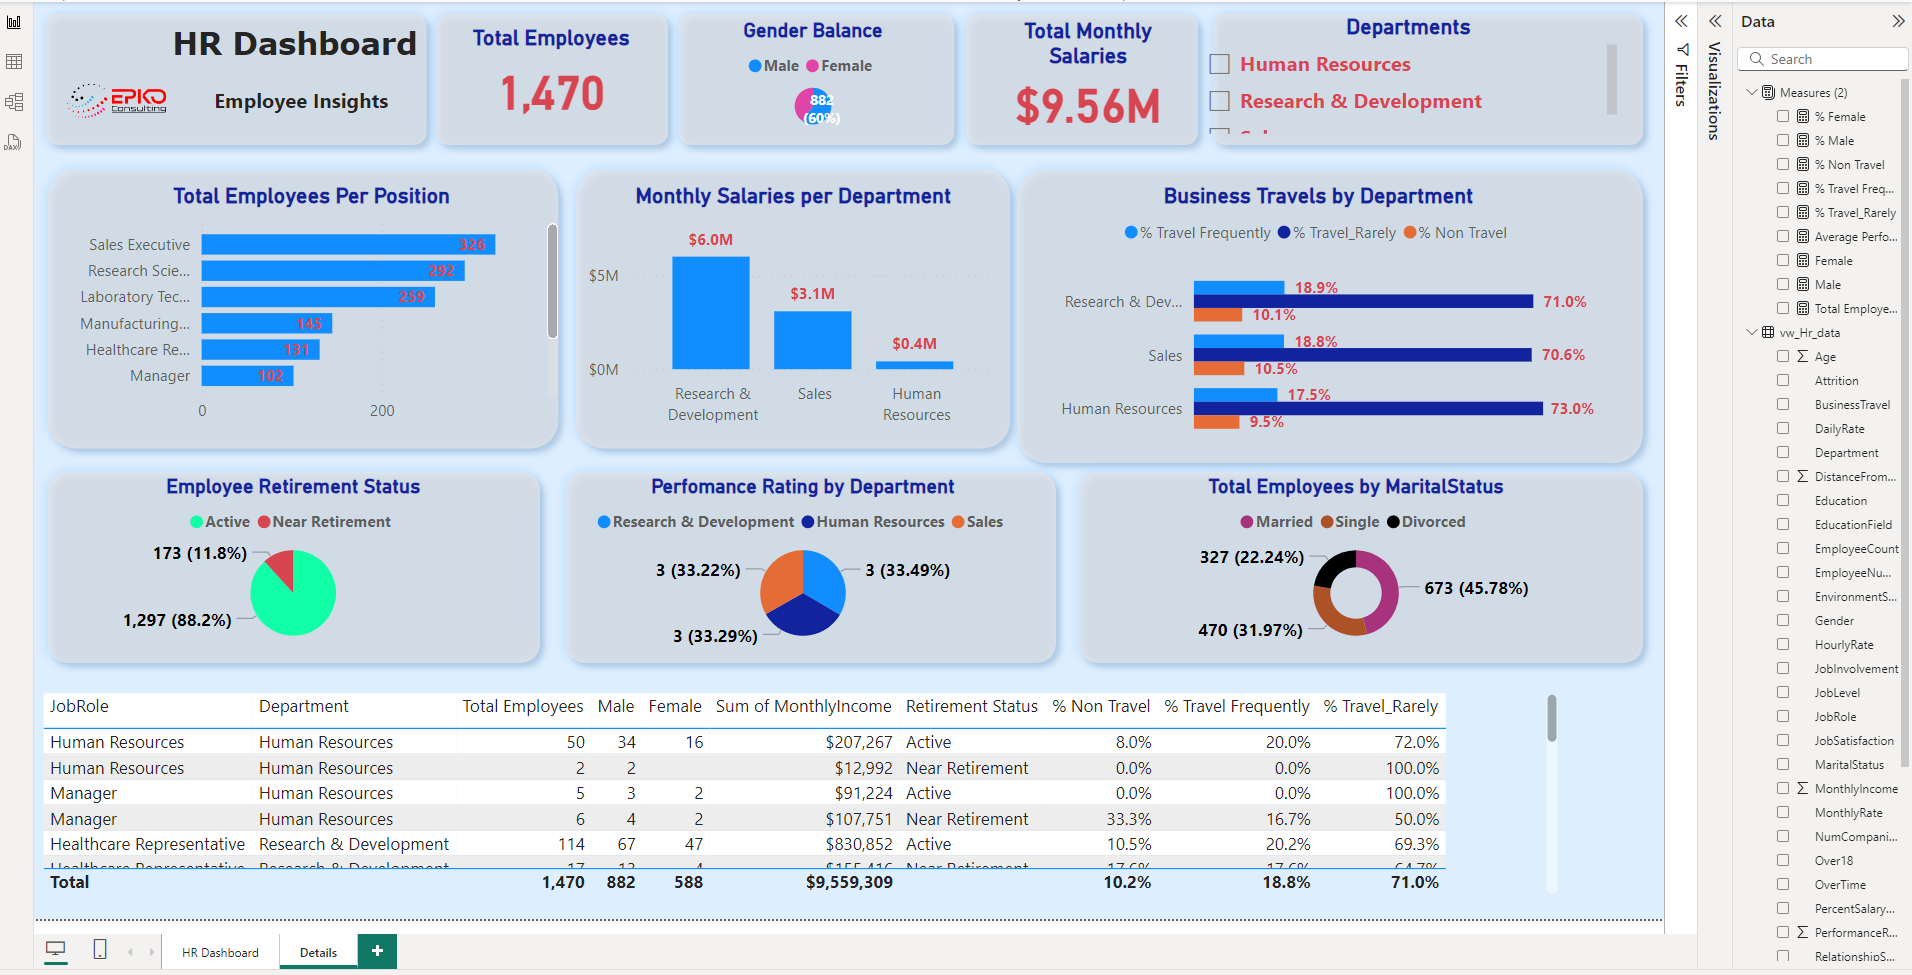

What the dashboard file says about the page in this screenshot:
{"tool":"powerbi","page":{"name":"HR Dashboard","canvas":[1280,720],"ordinal":0},"visuals":[{"type":"shape","box":[51.8,0,366.1,182.6],"z":0},{"type":"shape","box":[410.6,0,201.7,182.6],"z":1000},{"type":"shape","box":[600.5,0,235.3,182.6],"z":2000},{"type":"shape","box":[1023.8,0,256.2,182.6],"z":3000},{"type":"shape","box":[44.5,182.6,418.8,304.3],"z":4000},{"type":"shape","box":[463.3,182.6,358.8,304.3],"z":5000},{"type":"shape","box":[822.1,182.6,451.5,316.1],"z":6000},{"type":"shape","box":[58.1,496.9,405.2,221.7],"z":7000},{"type":"shape","box":[468.8,496.9,353.4,221.7],"z":8000},{"type":"shape","box":[835.8,498.7,437.9,221.7],"z":9000},{"type":"shape","box":[0,0,55.4,720.4],"z":10000},{"type":"textbox","box":[198,22.7,212.6,53.6],"z":11000},{"type":"textbox","box":[210.8,122.6,169.9,43.6],"z":12000},{"type":"image","box":[58.1,16.4,139.9,149.9],"z":13000},{"type":"card","title":"Total Employees","fields":{"Values":["Measures (2).Total Employees"]},"box":[417.9,22.7,165.3,119.9],"z":14000},{"type":"slicer","title":"Departments","fields":{"Values":["vw_Hr_data.Department"]},"box":[1032,22.7,248,136.3],"z":15000},{"type":"columnChart","title":"Monthly  Salaries per Department","fields":{"Y":["Sum(vw_Hr_data.MonthlyIncome)"],"Category":["vw_Hr_data.Department"]},"box":[481.5,194.4,330.7,273.4],"z":16000},{"type":"clusteredBarChart","title":"Total Employees Per Position","fields":{"Category":["vw_Hr_data.JobRole"],"Y":["Measures (2).Total Employees"]},"box":[58.1,198.9,397,283.4],"z":17000},{"type":"shape","box":[822.1,0,201.7,182.6],"z":18000},{"type":"card","title":"Total Monthly Salaries","fields":{"Values":["Sum(vw_Hr_data.MonthlyIncome)"]},"box":[835.8,12.7,181.7,156.3],"z":19000},{"type":"pieChart","title":"Gender Balance","fields":{"Category":["vw_Hr_data.Gender"],"Y":["Measures (2).Total Employees"]},"box":[612.3,12.7,209.9,156.3],"z":20000},{"type":"pieChart","title":"Perfomance Rating by Department","fields":{"Category":["vw_Hr_data.Department"],"Y":["Measures (2).Average Perfomance Rating"]},"box":[481.5,512.4,330.7,194.4],"z":21000},{"type":"clusteredBarChart","title":"Business Travels by Department","fields":{"Category":["vw_Hr_data.Department"],"Y":["Measures (2).% Travel Frequently","Measures (2).% Travel_Rarely","Measures (2).% Non Travel"]},"box":[822.1,194.4,443.3,292.5],"z":22000},{"type":"donutChart","fields":{"Category":["vw_Hr_data.MaritalStatus"],"Y":["Measures (2).Total Employees"]},"box":[877.6,512.4,353.4,194.4],"z":23000},{"type":"pieChart","title":"Employee Retirement Status","fields":{"Category":["vw_Hr_data.Retirement Status"],"Y":["Measures (2).Total Employees"]},"box":[70.9,512.4,377.9,194.4],"z":24000}]}

Visuals, with their boxes on the page's 1280x720 design canvas (x1, y1, x2, y2). These are canvas units, not pixel positions in the 1912x975 screenshot, which may show the page scaled, cropped or inside an application window:
shape: box=[52, 0, 418, 183]
shape: box=[411, 0, 612, 183]
shape: box=[600, 0, 836, 183]
shape: box=[1024, 0, 1280, 183]
shape: box=[44, 183, 463, 487]
shape: box=[463, 183, 822, 487]
shape: box=[822, 183, 1274, 499]
shape: box=[58, 497, 463, 719]
shape: box=[469, 497, 822, 719]
shape: box=[836, 499, 1274, 720]
shape: box=[0, 0, 55, 720]
textbox: box=[198, 23, 411, 76]
textbox: box=[211, 123, 381, 166]
image: box=[58, 16, 198, 166]
"Total Employees" card: box=[418, 23, 583, 143]
"Departments" slicer: box=[1032, 23, 1280, 159]
"Monthly  Salaries per Department" columnChart: box=[482, 194, 812, 468]
"Total Employees Per Position" clusteredBarChart: box=[58, 199, 455, 482]
shape: box=[822, 0, 1024, 183]
"Total Monthly Salaries" card: box=[836, 13, 1018, 169]
"Gender Balance" pieChart: box=[612, 13, 822, 169]
"Perfomance Rating by Department" pieChart: box=[482, 512, 812, 707]
"Business Travels by Department" clusteredBarChart: box=[822, 194, 1265, 487]
donutChart - vw_Hr_data.MaritalStatus x Measures (2).Total Employees: box=[878, 512, 1231, 707]
"Employee Retirement Status" pieChart: box=[71, 512, 449, 707]
